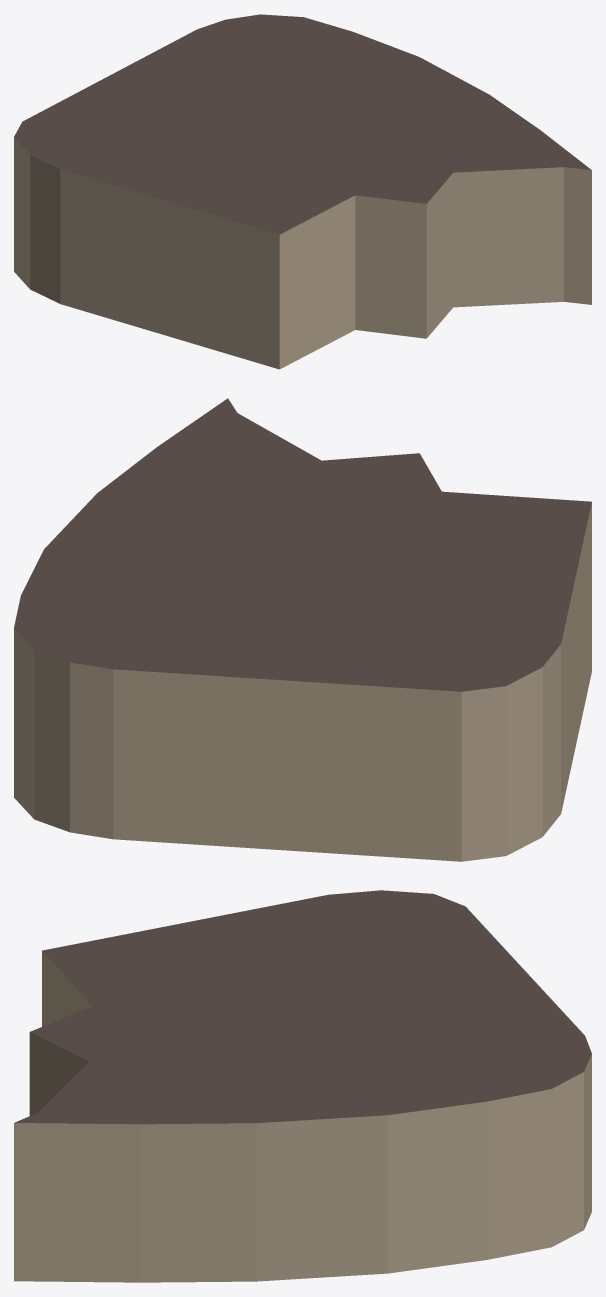
3 views of the same model, one above another, from view 1: azimuth 30°, elevation 25°; view 2: azimuth 150°, elevation 25°; view 3: azimuth 270°, elevation 25° (orthographic). The views are drawn at different scales.
Parts seen in each view (by area): view 1: HP-w299224150; view 2: HP-w299224150; view 3: HP-w299224150.
Boxes of the visible parts, bbox=[...] form: HP-w299224150: bbox=[14, 14, 591, 369]; HP-w299224150: bbox=[14, 398, 591, 861]; HP-w299224150: bbox=[14, 890, 591, 1282].
Size of the model in its own units: 28.52 by 9 by 29.77.
